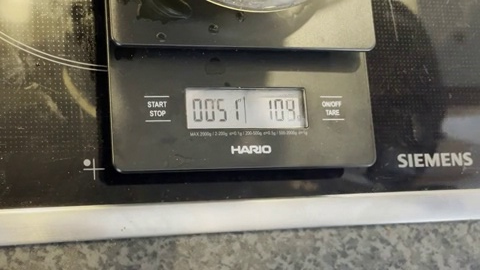display: (186, 88, 304, 128)
